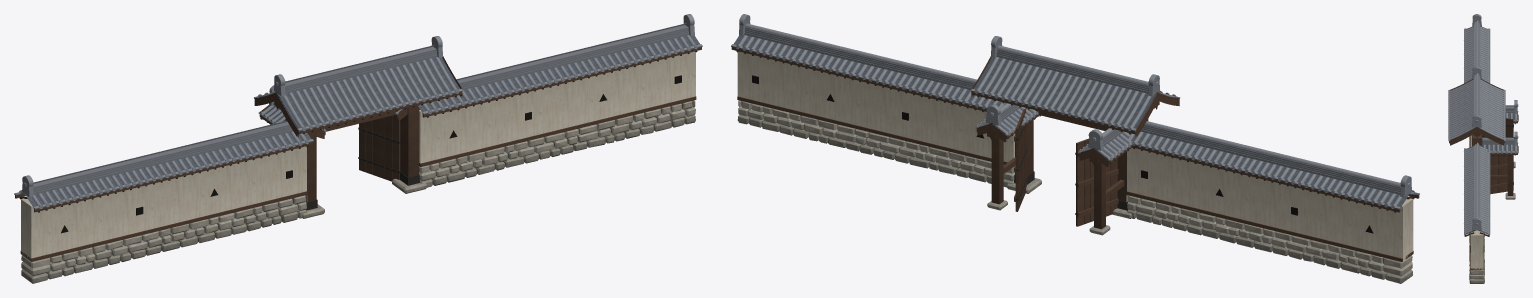
Rendered from gate.glb.
3 views of the same model, side by side, from view 1: azimuth 30°, elevation 25°; view 2: azimuth 150°, elevation 25°; view 3: azimuth 270°, elevation 25° (orthographic). The views are drawn at different scales.
Parts seen in each view (by area): view 1: 城門-土塀の漆喰, 城門-丸瓦, 城門-石, 城門-古材, 城門-いぶし瓦, 城門-鉄金具; view 2: 城門-土塀の漆喰, 城門-丸瓦, 城門-石, 城門-古材, 城門-いぶし瓦; view 3: 城門-丸瓦, 城門-古材, 城門-いぶし瓦, 城門-土塀の漆喰, 城門-石.
Part boxes in pixels (x1,y1,x2,y2): 城門-土塀の漆喰: (21,51,695,260); 城門-丸瓦: (14,14,702,209); 城門-石: (21,100,695,283); 城門-古材: (15,47,701,261); 城門-いぶし瓦: (16,35,699,206); 城門-鉄金具: (306,127,419,210); 城門-土塀の漆喰: (737,51,1413,261); 城門-丸瓦: (731,14,1419,209); 城門-石: (737,100,1412,283); 城門-古材: (731,47,1419,261); 城門-いぶし瓦: (733,35,1417,206); 城門-丸瓦: (1448,14,1518,235); 城門-古材: (1449,79,1518,270); 城門-いぶし瓦: (1450,26,1517,234); 城門-土塀の漆喰: (1470,135,1483,270); 城門-石: (1469,136,1515,283).
Bounding box in the file's own units: 26.12 × 5.37 × 3.77.
7 materials, 4 textured.
